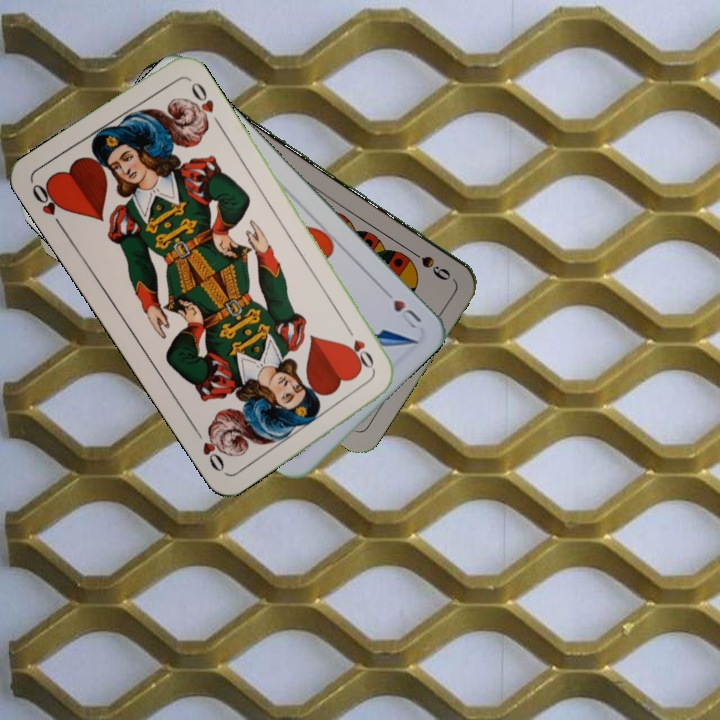HO: (28, 178, 68, 232), (341, 320, 378, 374)
HU: (377, 285, 424, 332)
S9: (402, 244, 454, 282)
